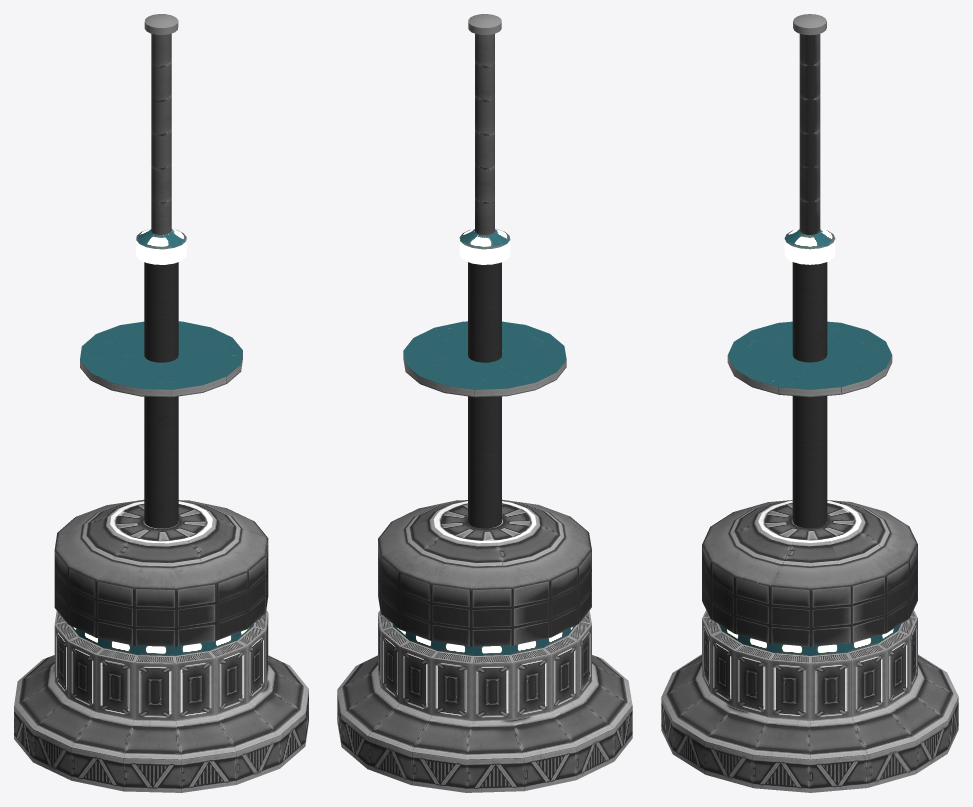
Rendered from ARC1110013.fbx.
3 views of the same model, side by side, from view 1: azimuth 30°, elevation 25°; view 2: azimuth 150°, elevation 25°; view 3: azimuth 270°, elevation 25° (orthographic).
Parts seen in each view (by area): view 1: smARC1110013; view 2: smARC1110013; view 3: smARC1110013.
Boxes of the visible parts, left/top/right/bottom form: smARC1110013: left=14, top=14, right=308, bottom=792; smARC1110013: left=337, top=14, right=632, bottom=792; smARC1110013: left=661, top=14, right=958, bottom=792.
Bounding box in the file's own units: 357 × 942 × 357.
1 material, 1 textured.
